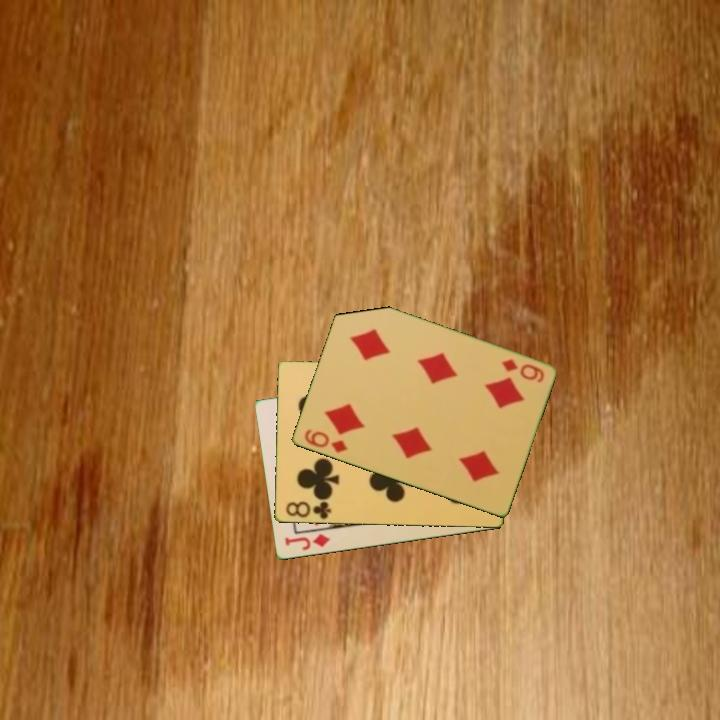6d: (300, 426, 350, 456), (498, 356, 547, 386)
8c: (282, 498, 334, 522)
Jd: (281, 530, 333, 554)
